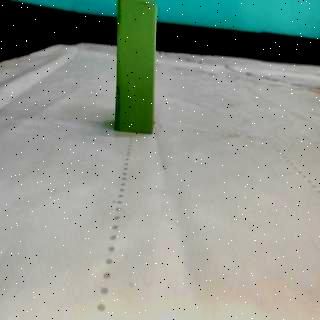greenbox: (116, 0, 158, 134)
